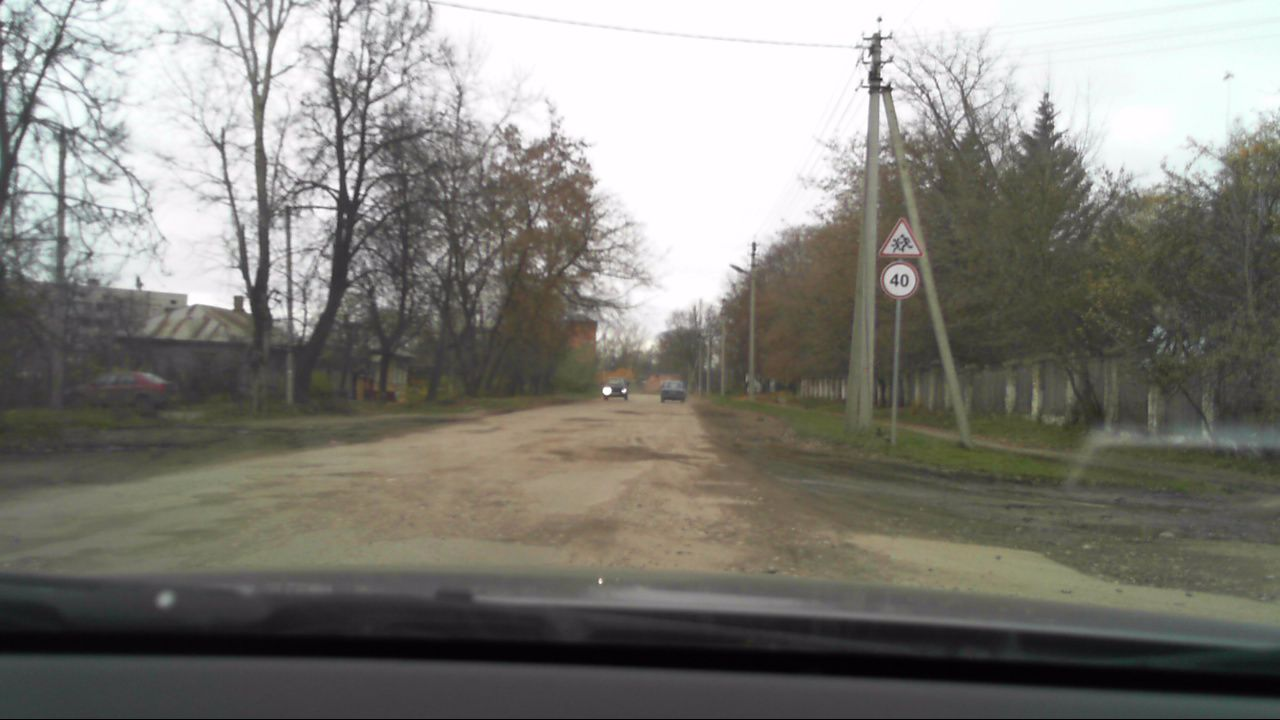speed_warning_40: (878, 260, 919, 299)
